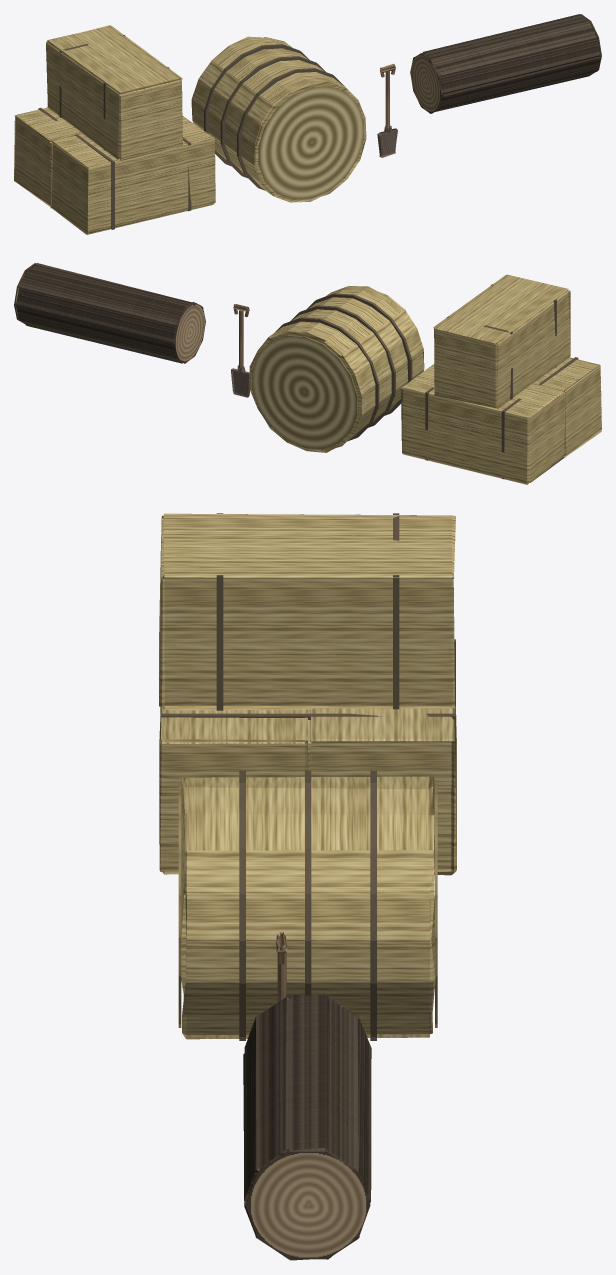
Rendered from lt2_rustic.glb.
3 views of the same model, one above another, from view 1: azimuth 30°, elevation 25°; view 2: azimuth 150°, elevation 25°; view 3: azimuth 270°, elevation 25° (orthographic). The views are drawn at different scales.
Parts seen in each view (by area): view 1: RoundBale, SquareBale.002, SquareBale, Log, SquareBale.001, SmallShovel; view 2: RoundBale, SquareBale.002, SquareBale.001, Log, SquareBale, SmallShovel; view 3: RoundBale, SquareBale.002, Log, SquareBale.001, SquareBale.
Part boxes in pixels (<box>): RoundBale: <box>191,36,366,202</box>; SquareBale.002: <box>46,25,182,160</box>; SquareBale: <box>51,116,215,234</box>; Log: <box>410,14,601,113</box>; SquareBale.001: <box>14,107,82,208</box>; SmallShovel: <box>377,63,397,157</box>; RoundBale: <box>249,286,424,452</box>; SquareBale.002: <box>433,274,570,409</box>; SquareBale.001: <box>401,364,565,484</box>; Log: <box>14,263,205,363</box>; SquareBale: <box>534,357,601,456</box>; SmallShovel: <box>231,304,249,397</box>; RoundBale: <box>178,770,437,1040</box>; SquareBale.002: <box>159,513,455,710</box>; Log: <box>243,994,371,1260</box>; SquareBale.001: <box>307,639,456,875</box>; SquareBale: <box>159,707,309,874</box>.
Bounding box in the file's own units: 4.73 × 1.37 × 1.14.
7 materials, 6 textured.
